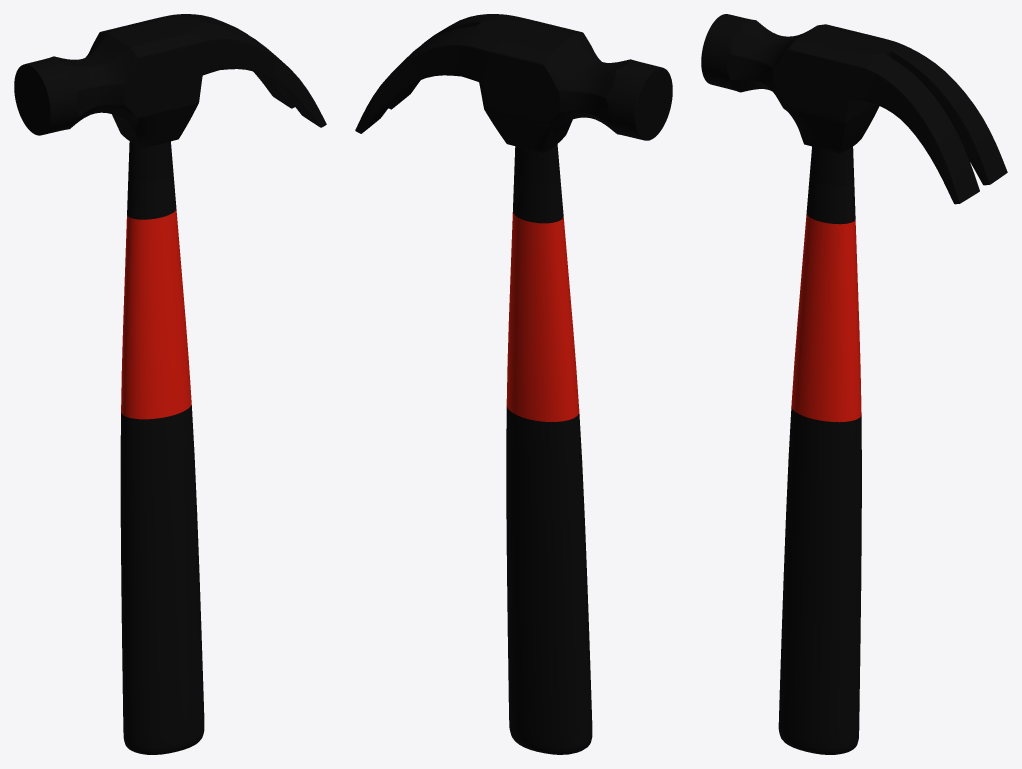
The model's file is hammer.FBX.
3 renders of one model, left to right at view 1: azimuth 30°, elevation 25°; view 2: azimuth 150°, elevation 25°; view 3: azimuth 330°, elevation 25°, orthographic. The views are drawn at different scales.
Visible parts, largest first — view 1: hammer1; view 2: hammer1; view 3: hammer1.
Part boxes in pixels (x1,y1,x2,y2): hammer1: [14, 14, 326, 754]; hammer1: [355, 14, 672, 754]; hammer1: [701, 14, 1007, 754].
Bounding box in the file's own units: 56.76 × 141 × 19.42.
